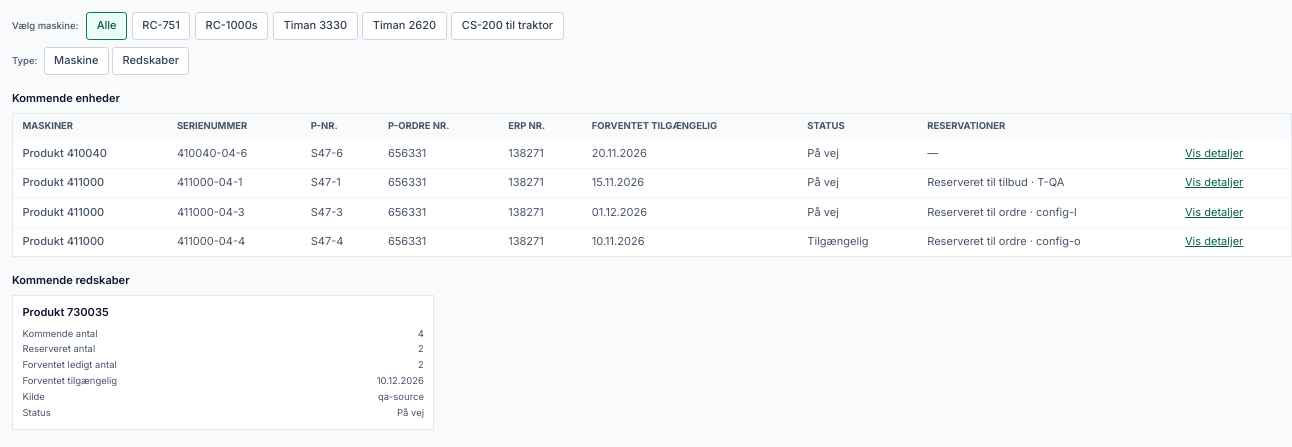
Test: Planning incoming supply and timeline projections › combines the delivery category, canonical machine family and search filters
Later steps or results of the test are not shown.
Expected: the button "RC-1000s" is shown, [195,12,268,40]
Expected: the button "Timan 3330" is shown, [273,12,358,40]
Step 1. Click the button "RC-751" → {"x": 161, "y": 26}, box [132,12,190,40]
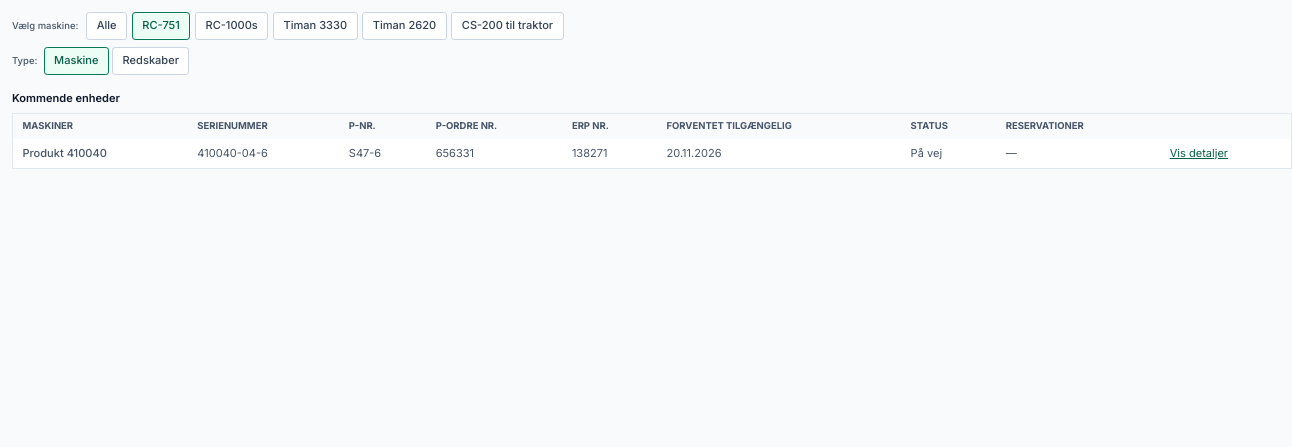
Now the text "Produkt 411000" is gone
Now the text "Produkt 730035" is gone
Step 2. Click the button "Redskaber" → {"x": 151, "y": 61}, box [112,47,189,75]
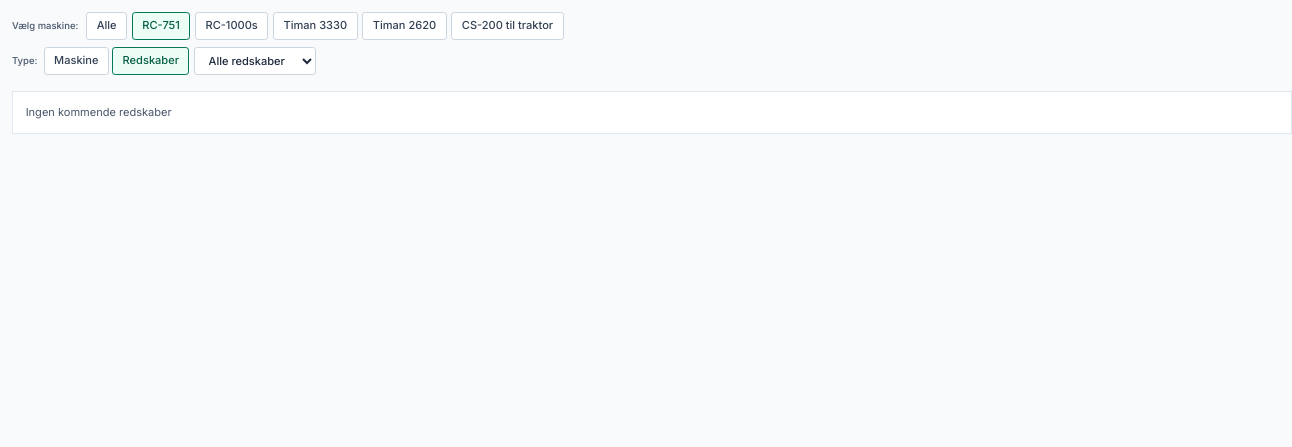
Now the dropdown named "Redskaber" does not show "Produkt 730035", box [194,47,316,75]
Now the text "Ingen kommende redskaber" is shown, box [12,91,1291,134]
